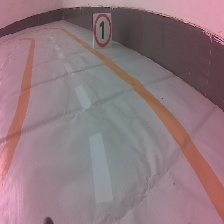limit: (86, 10, 118, 52)
